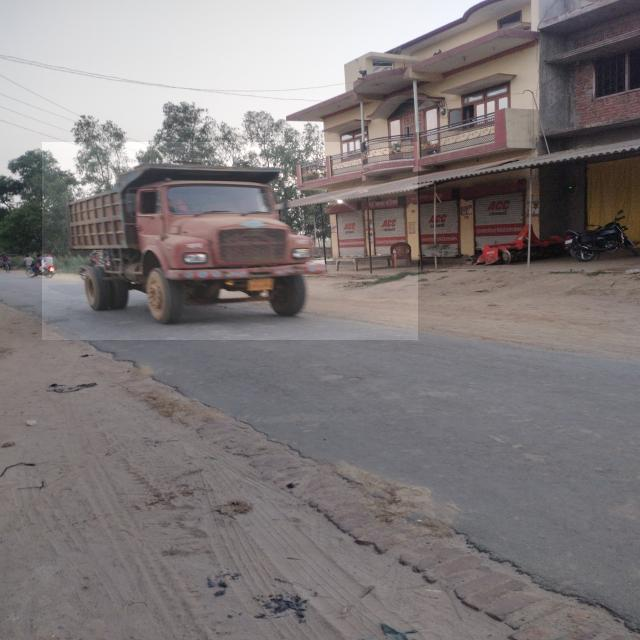Truck: (42, 142, 418, 340)
